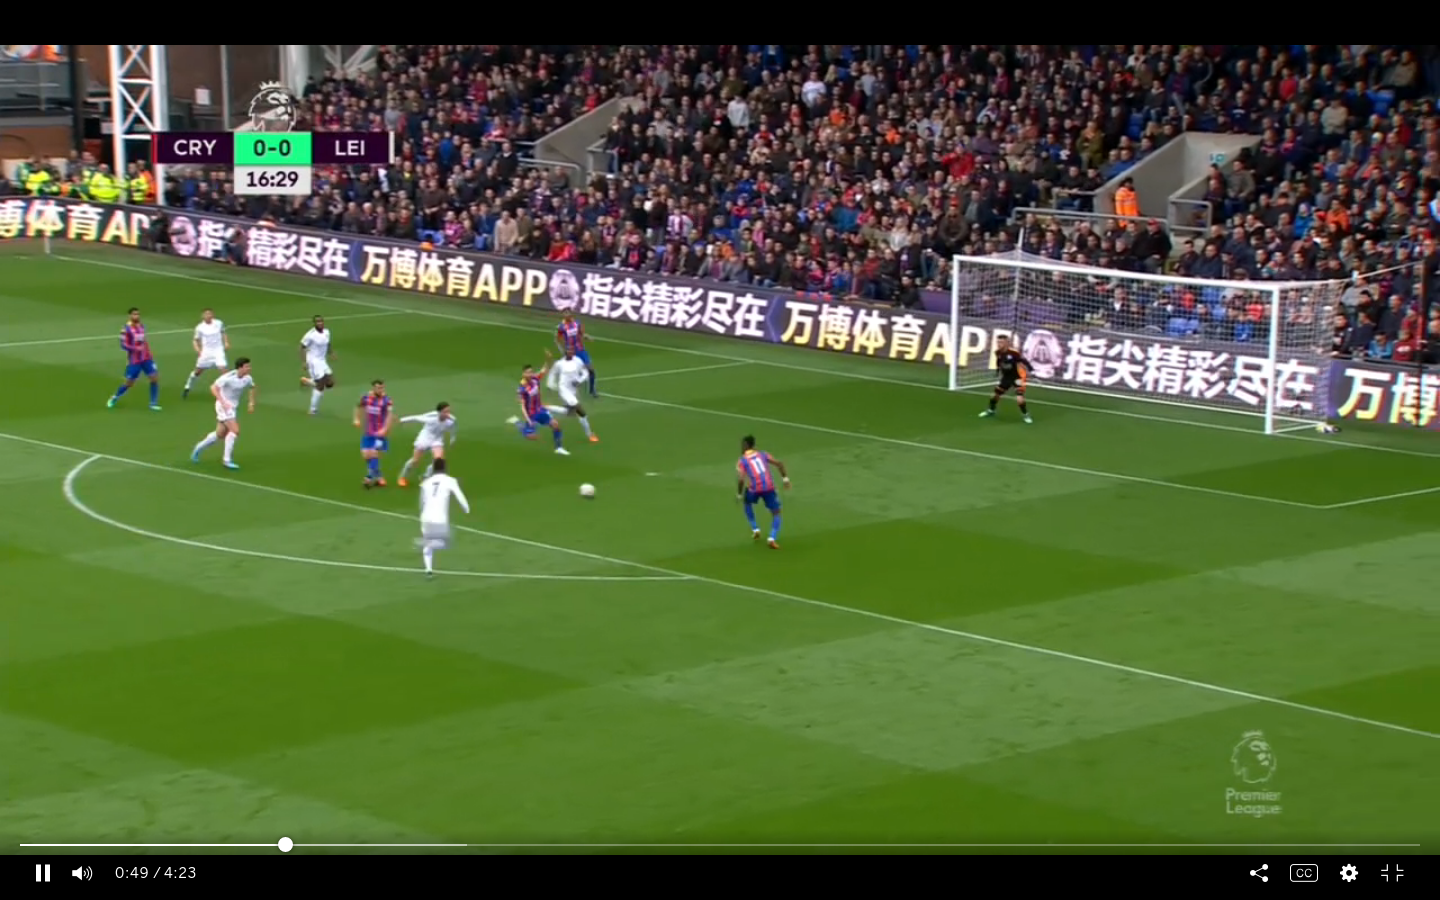soccer player: (199, 357, 259, 480), (733, 434, 793, 554), (105, 309, 165, 417), (979, 329, 1041, 426), (418, 457, 465, 580), (396, 399, 461, 488), (347, 380, 398, 489), (550, 349, 604, 443), (515, 357, 561, 463), (181, 305, 236, 389), (298, 312, 339, 422), (558, 312, 593, 366)
soccerball: (579, 479, 598, 505)
